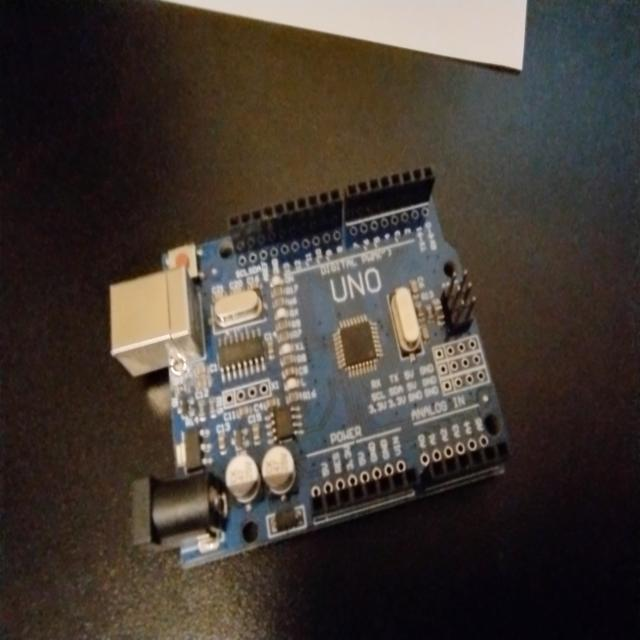arduino: (124, 193, 509, 535)
